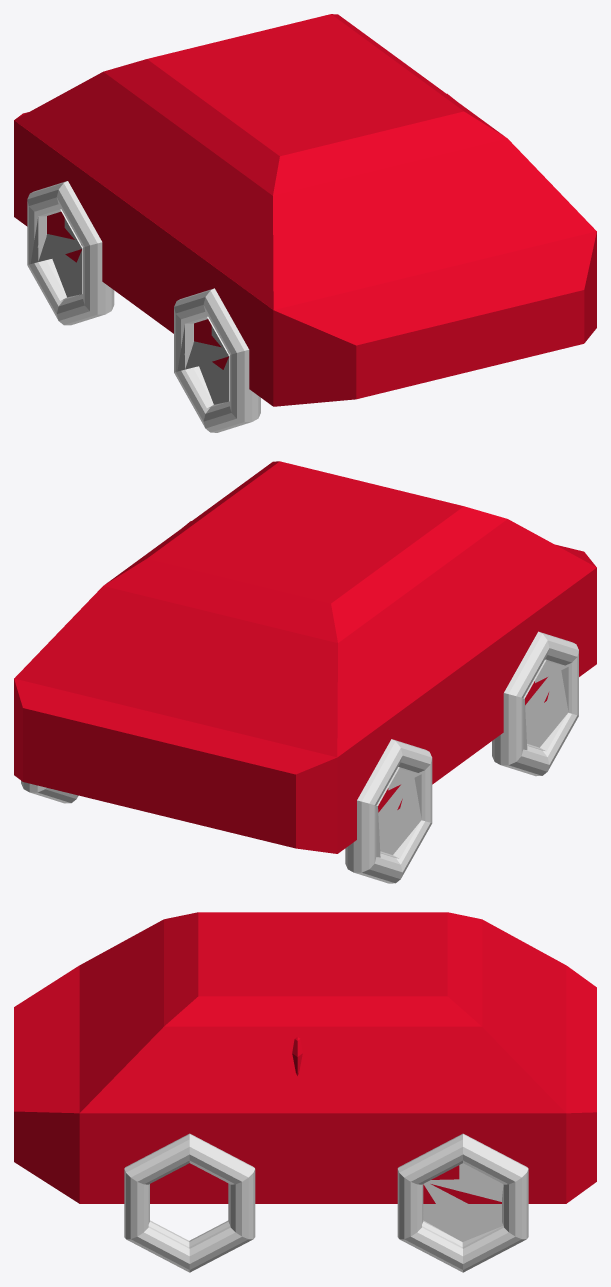
Rendered from car.glb.
3 renders of one model, top to bottom at view 1: azimuth 30°, elevation 25°; view 2: azimuth 150°, elevation 25°; view 3: azimuth 270°, elevation 25°, orthographic. The views are drawn at different scales.
Parts seen in each view (by area): view 1: Cube, Cube.004, Cube.003; view 2: Cube, Cube.004, Cube.003, Cube.002; view 3: Cube, Cube.002, Cube.001.
Boxes of the visible parts, bbox=[...] form: Cube: bbox=[14, 14, 596, 406]; Cube.004: bbox=[27, 181, 114, 325]; Cube.003: bbox=[174, 288, 260, 432]; Cube: bbox=[14, 461, 596, 853]; Cube.004: bbox=[345, 739, 432, 883]; Cube.003: bbox=[492, 631, 578, 776]; Cube.002: bbox=[21, 781, 78, 803]; Cube: bbox=[14, 912, 596, 1203]; Cube.002: bbox=[397, 1133, 528, 1272]; Cube.001: bbox=[124, 1133, 255, 1272].
Bounding box in the file's own units: 2.89 × 2 × 4.39.
